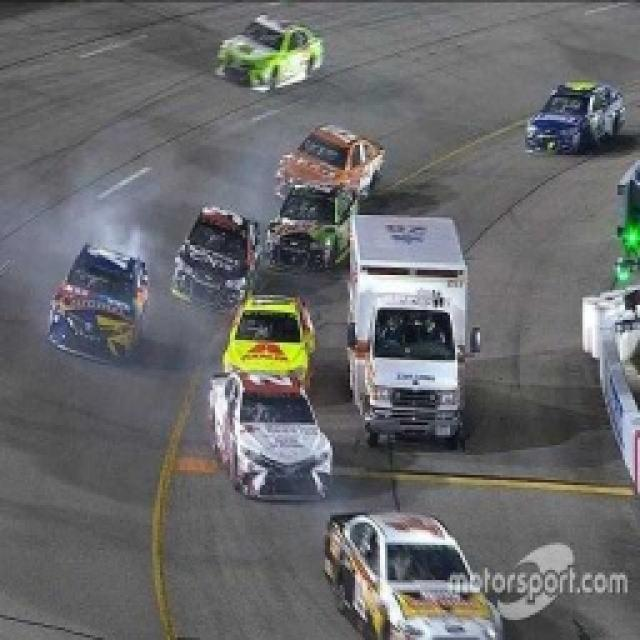emergency-vehicle: (345, 203, 485, 464)
